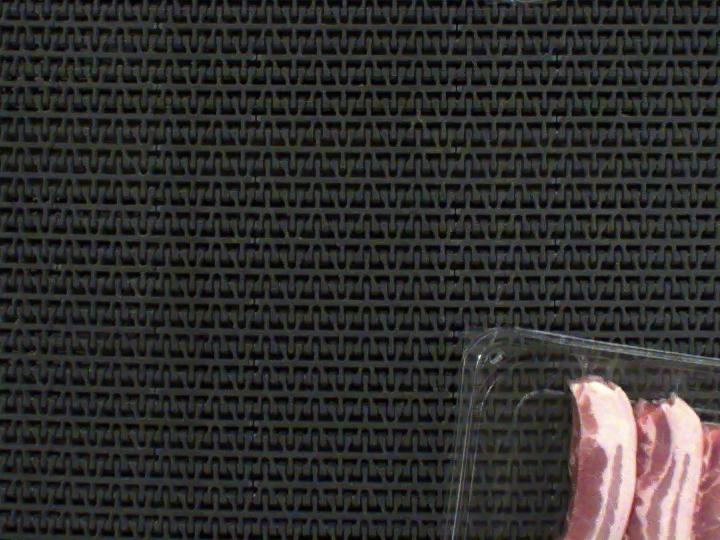packaging-error: (571, 344, 619, 392)
